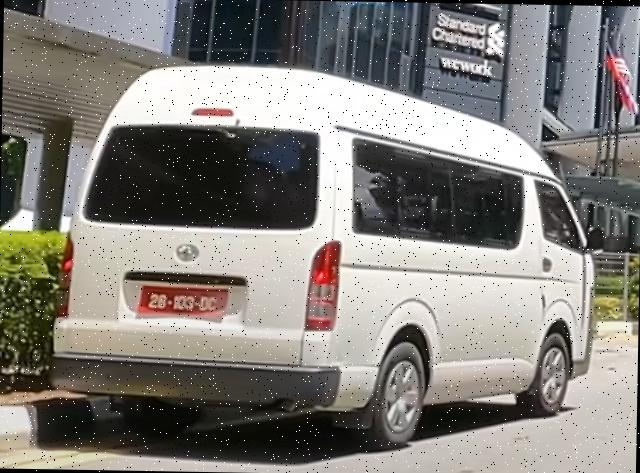License_Plate: (135, 283, 231, 321)
car: (47, 61, 607, 453)
